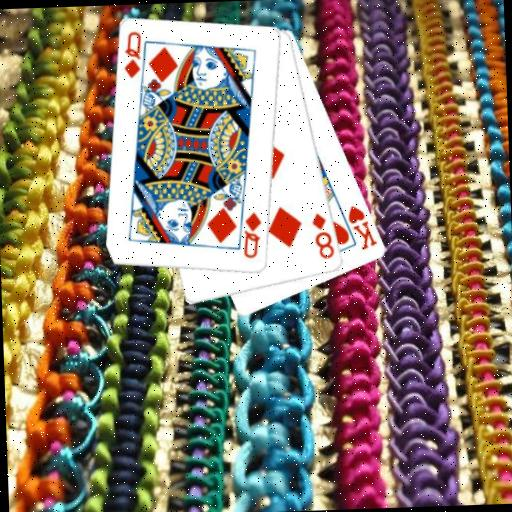8D: (309, 209, 336, 260)
KH: (344, 202, 379, 252)
QD: (119, 28, 144, 80), (239, 209, 264, 260)
